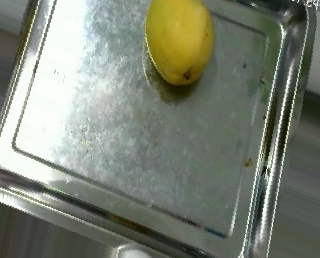Mango: (145, 0, 215, 85)
